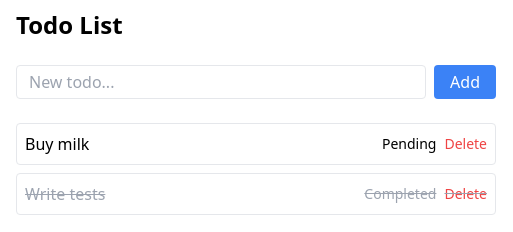
Scenario: pages/index.vue › delete button › removes the todo without a full page reload
The width and height of the screenshot is (513, 232).
Click the button "Delete" in the row of "Buy milk" at {"x": 466, "y": 144}, box [444,134,487,154]
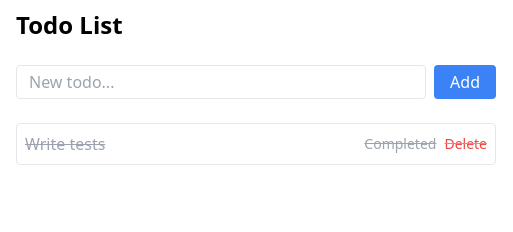
Now the text "Buy milk" is gone
